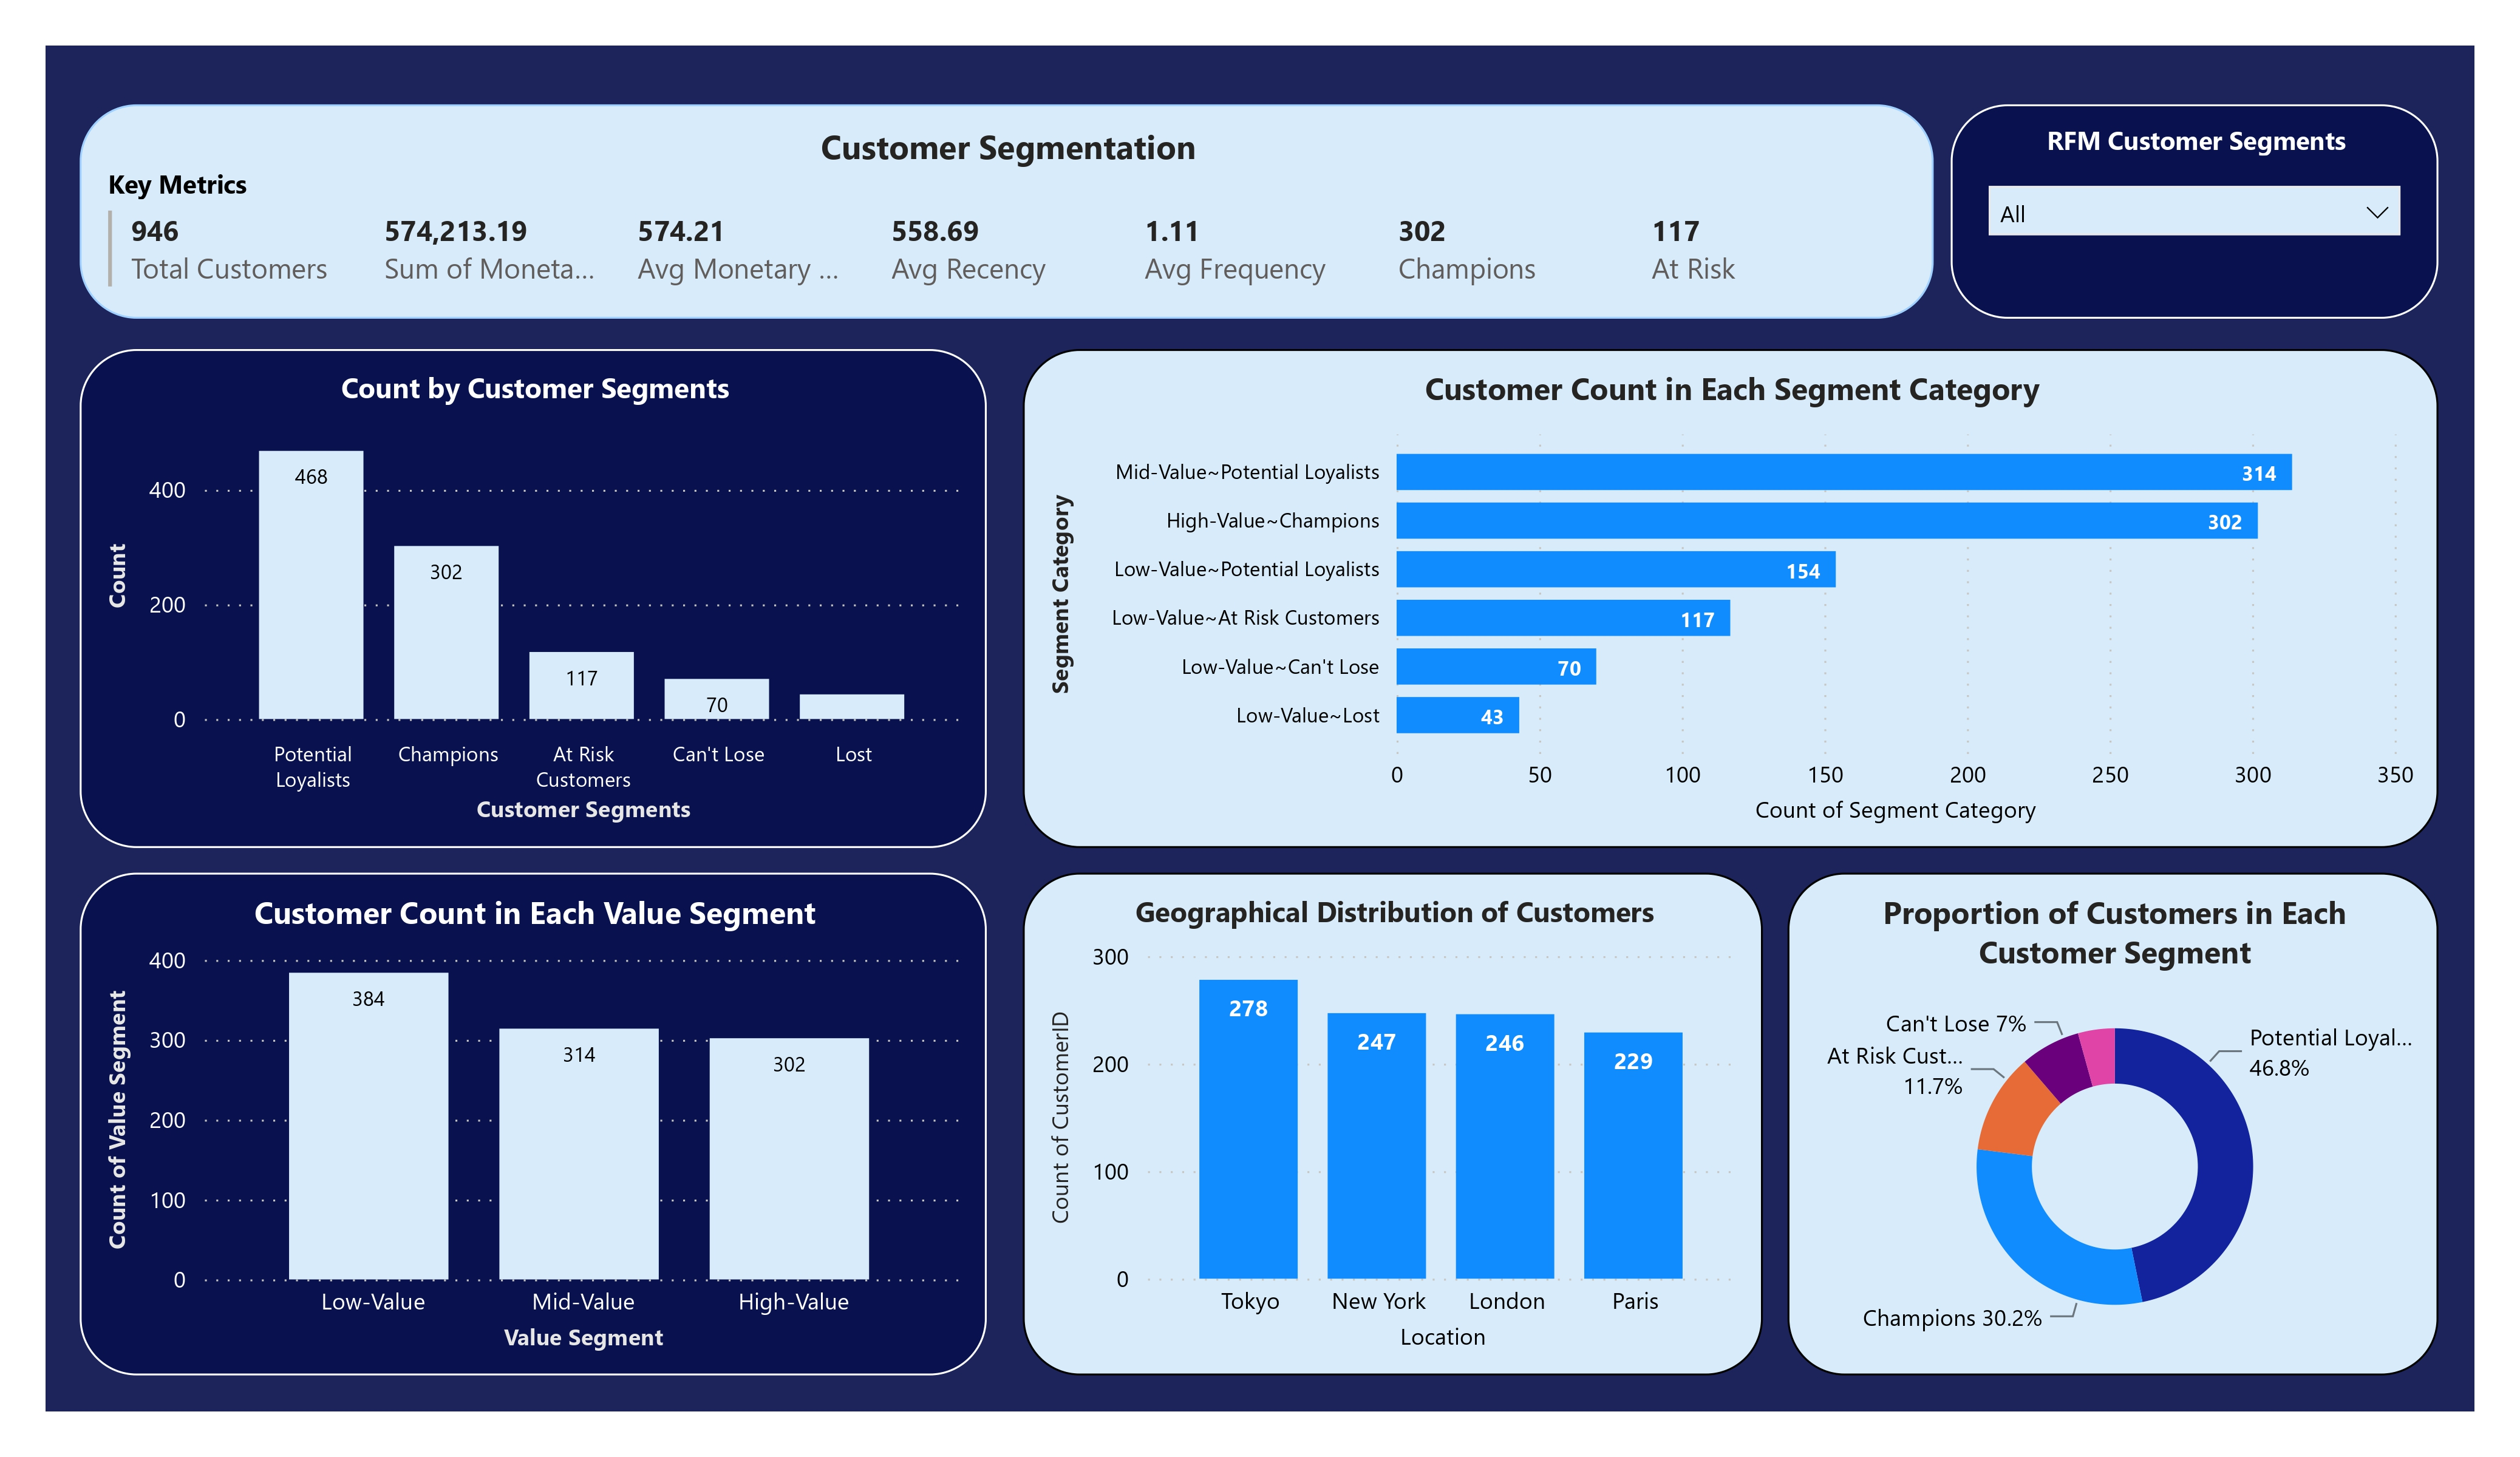

Layout of this report page (visuals, bound fields, positions):
{"tool":"powerbi","page":{"name":"Customer Segmentation","canvas":[1280,720],"ordinal":0},"visuals":[{"type":"multiRowCard","title":"Customer Segmentation","fields":{"Values":["rfm_table.TotalCustomers","Sum(rfm_table.MonetaryValue)","Avg(rfm_table.MonetaryValue)","Avg(rfm_table.Recency)","Avg(rfm_table.Frequency)","rfm_table.HighValueCustomers","rfm_table.AtRiskCustomers"]},"box":[17.5,31.2,977.5,112.5],"z":0},{"type":"barChart","title":"Customer Count in Each Segment Category","fields":{"Y":["CountNonNull(rfm_table.Segment Category)"],"Category":["rfm_table.Segment Customer"]},"box":[515,160,746.2,262.5],"z":1000},{"type":"columnChart","fields":{"Y":["CountNonNull(rfm_table.RFM Customer Segments)"],"Category":["rfm_table.RFM Customer Segments"]},"box":[17.5,160,478.8,262.5],"z":2000},{"type":"donutChart","title":"Proportion of Customers in Each Customer Segment","fields":{"Category":["rfm_table.RFM Customer Segments"],"Y":["CountNonNull(rfm_table.RFM Customer Segments)"]},"box":[917.5,436.2,343.8,265],"z":3000},{"type":"columnChart","title":"Customer Count in Each Value Segment","fields":{"Category":["rfm_table.Value Segment"],"Y":["CountNonNull(rfm_table.Value Segment)"]},"box":[17.5,436.2,478.8,265],"z":4000},{"type":"slicer","title":"RFM Customer Segments","fields":{"Values":["rfm_table.RFM Customer Segments"]},"box":[1003.8,31.2,257.5,112.5],"z":5000},{"type":"columnChart","title":"Geographical Distribution of Customers","fields":{"Category":["rfm_table.Location"],"Y":["CountNonNull(rfm_table.CustomerID)"]},"box":[515,436.2,390,265],"z":6000}]}

Visuals, with their boxes in screenshot pixels (x1, y1, x2, y2):
"Customer Segmentation" multiRowCard: select_region(79, 104, 1933, 318)
"Customer Count in Each Segment Category" barChart: select_region(1023, 349, 2439, 847)
columnChart - CountNonNull(rfm_table.RFM Customer Segments) x rfm_table.RFM Customer Segments: select_region(79, 349, 987, 847)
"Proportion of Customers in Each Customer Segment" donutChart: select_region(1786, 873, 2439, 1376)
"Customer Count in Each Value Segment" columnChart: select_region(79, 873, 987, 1376)
"RFM Customer Segments" slicer: select_region(1950, 104, 2439, 318)
"Geographical Distribution of Customers" columnChart: select_region(1023, 873, 1763, 1376)
